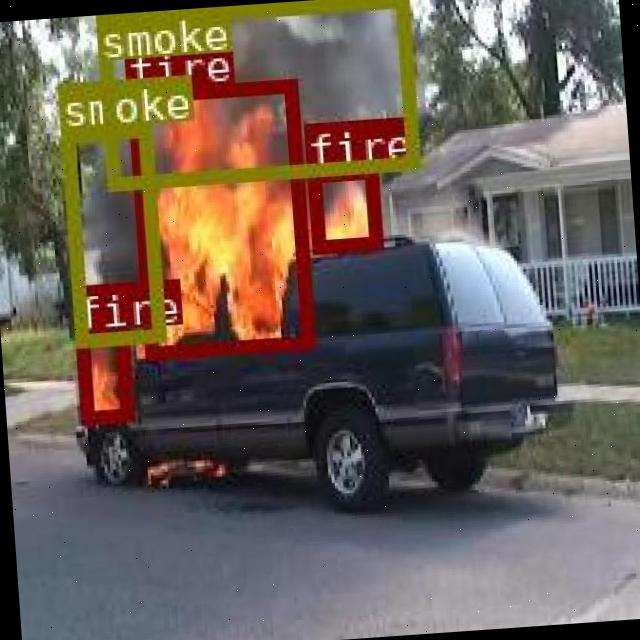fire: (126, 78, 312, 356), (305, 162, 380, 250), (74, 328, 130, 422)
smoke: (93, 0, 416, 188), (58, 123, 161, 344)
